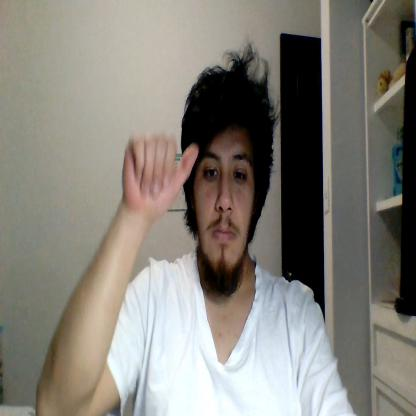A: (123, 133, 198, 220)
